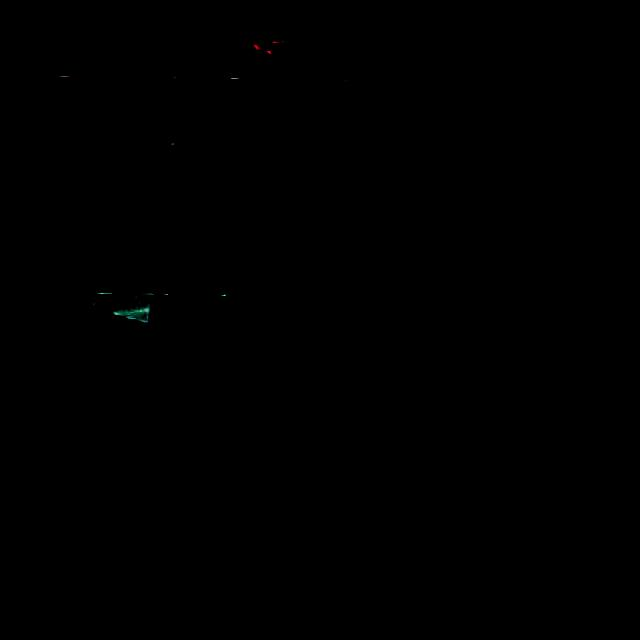barbell: (54, 73, 349, 297)
